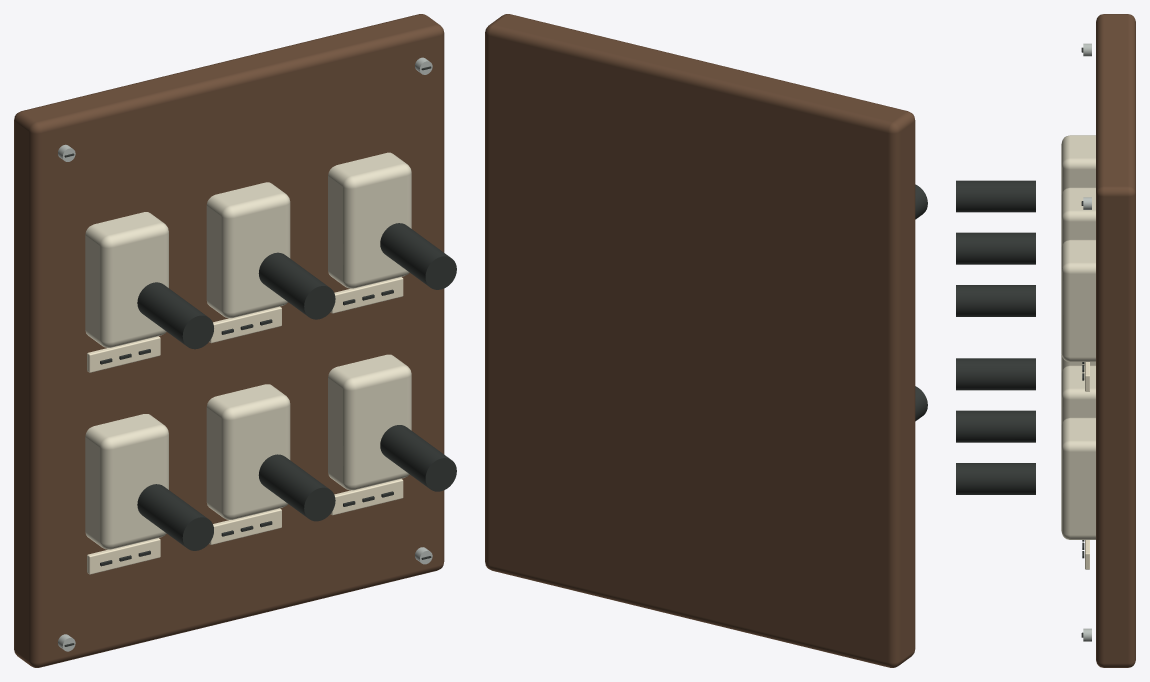
The model's file is abandoned-telephone-exchange-fuse-distribution-board-a9865666__32010.glb.
The picture shows the model from 3 angles, left to right: view 1: azimuth 30°, elevation 25°; view 2: azimuth 150°, elevation 25°; view 3: azimuth 270°, elevation 25°; orthographic projection. The views are drawn at different scales.
Parts seen in each view (by area): view 1: fuse-distribution-board; view 2: fuse-distribution-board; view 3: fuse-distribution-board.
Boxes of the visible parts, x1,y1,x2,y2 form: fuse-distribution-board: (14,14,456,667); fuse-distribution-board: (485,14,927,667); fuse-distribution-board: (956,14,1135,667).
Size of the model in its own units: 0.58 by 0.73 by 0.2475.
